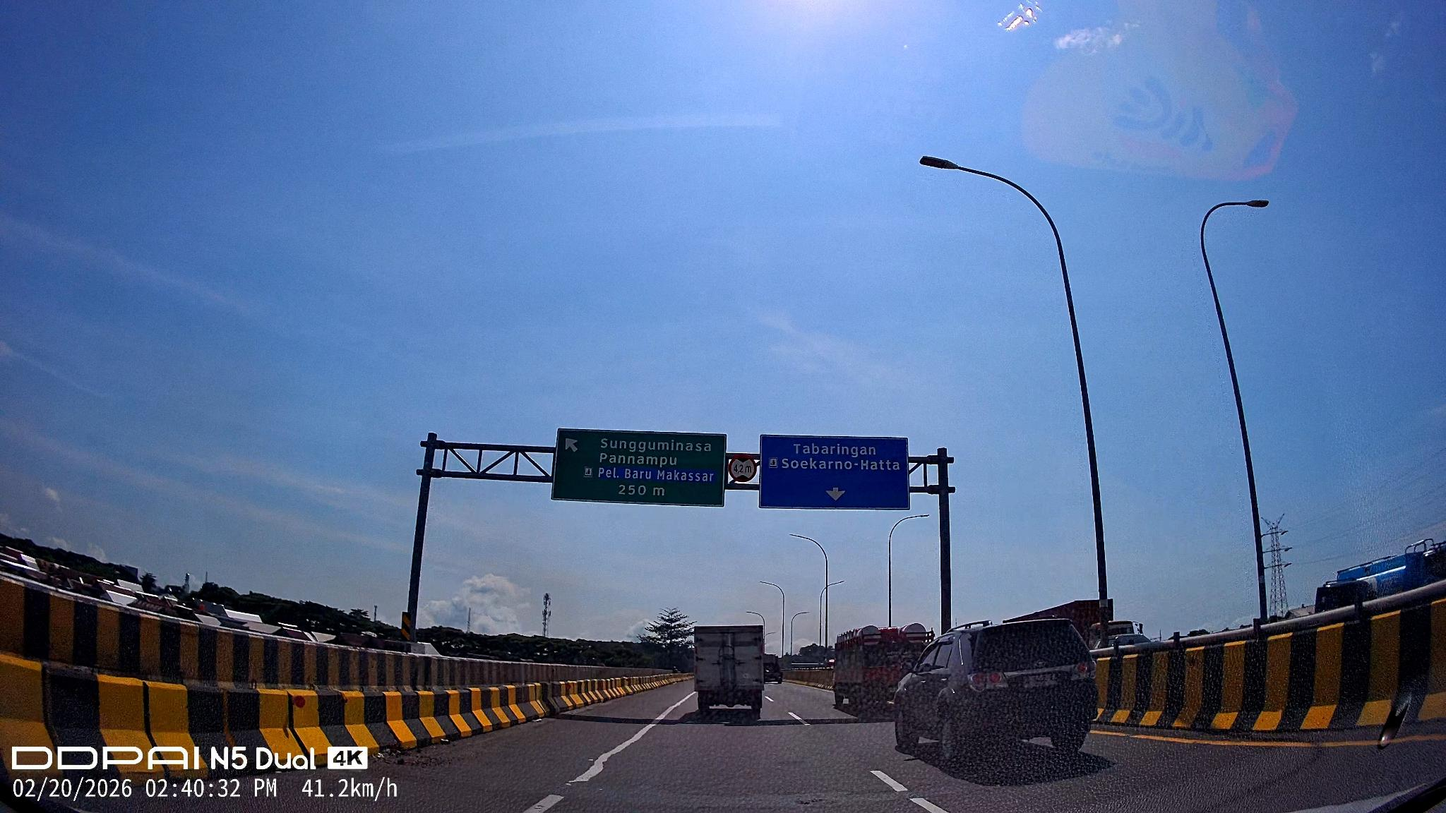rambu_teks: (551, 427, 727, 508), (759, 434, 911, 512)
